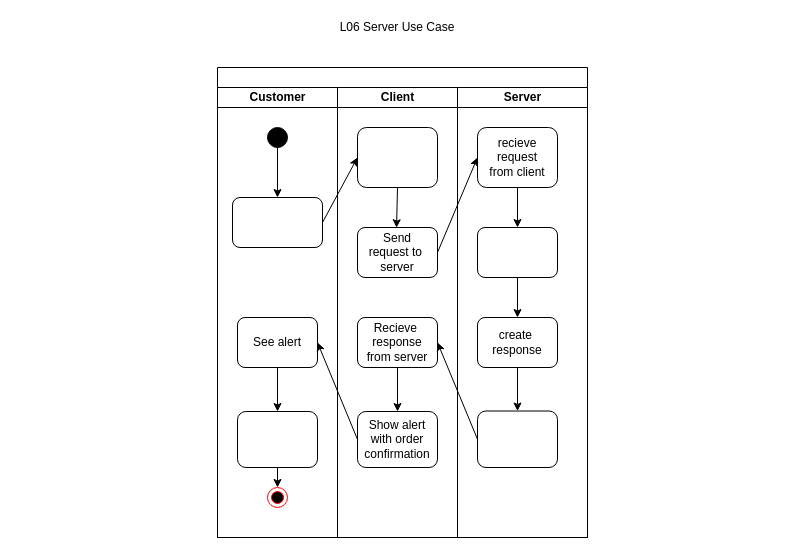
This 794x555 diagram has some shape labels left out. The shapes that lost their labels are listed below. From the top down, each one's centre as x and y in pixels, then its label:
(397,157): collect data from form
(277,222): click "order"
(517,252): process query
(277,439): Verify order
(517,439): Send response to Client
